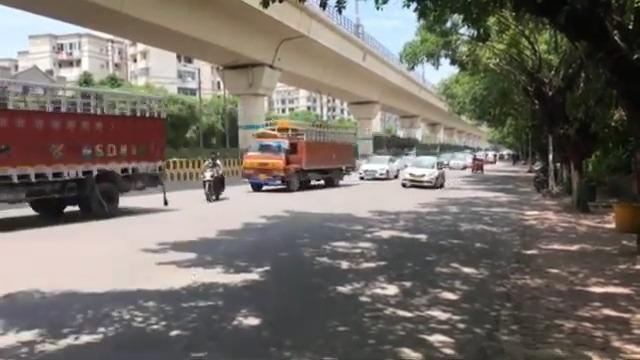Bike: (201, 150, 224, 202)
Car: (400, 155, 445, 188), (358, 154, 399, 180)
Truck: (0, 75, 169, 218), (241, 119, 358, 191)
